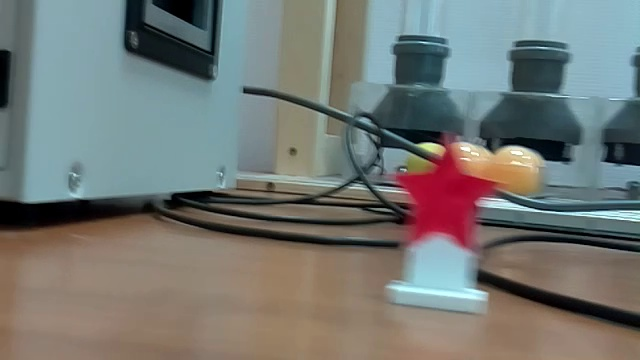star: (384, 137, 507, 318)
